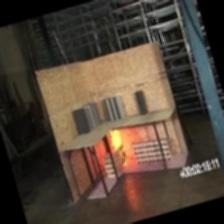fire: (103, 122, 138, 164)
